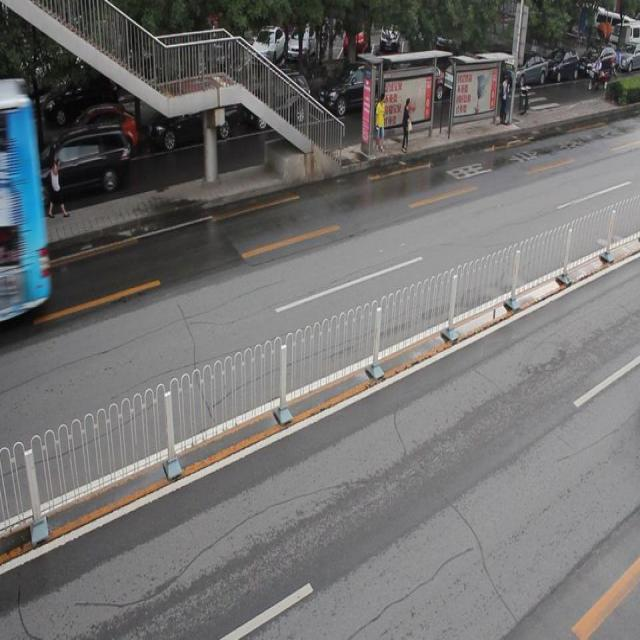car: (34, 122, 132, 203), (48, 105, 136, 172), (143, 92, 236, 146), (314, 61, 390, 120), (241, 72, 309, 132), (1, 126, 36, 181)
